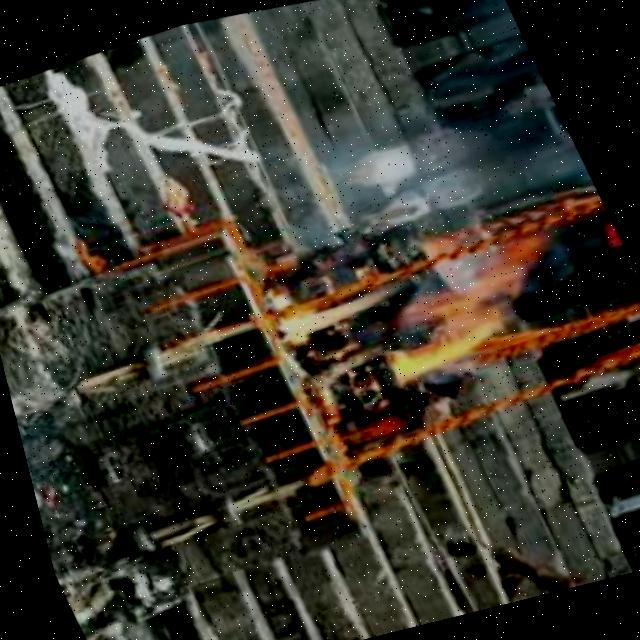fire: (267, 199, 597, 421)
